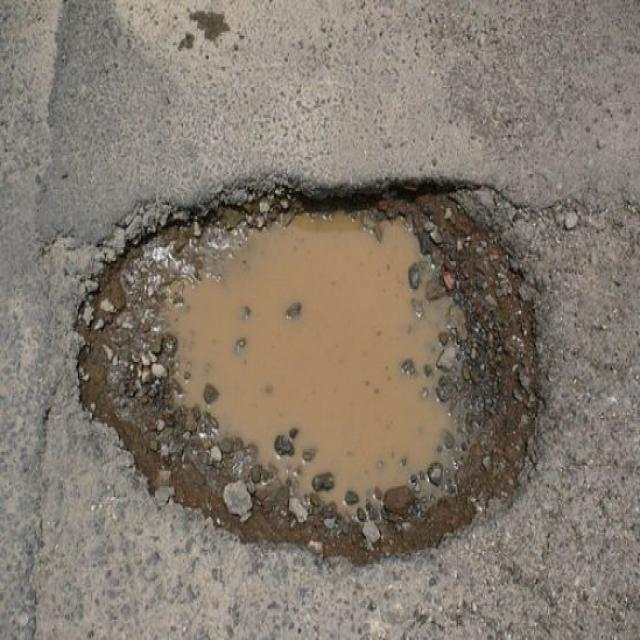Pothole: (64, 163, 566, 569)
